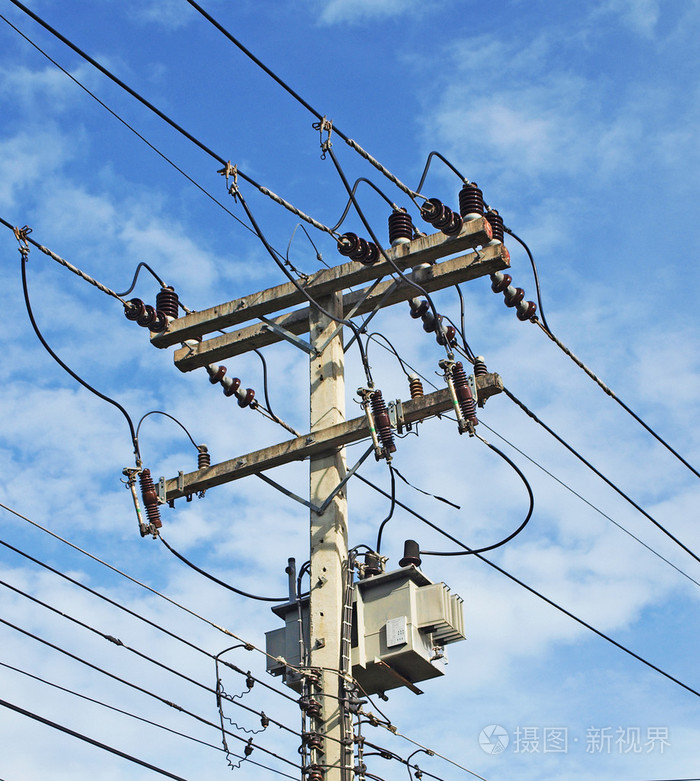insulator: (487, 272, 538, 321), (206, 361, 256, 409), (410, 301, 454, 347), (122, 297, 172, 333), (419, 196, 462, 234), (336, 231, 381, 267)
